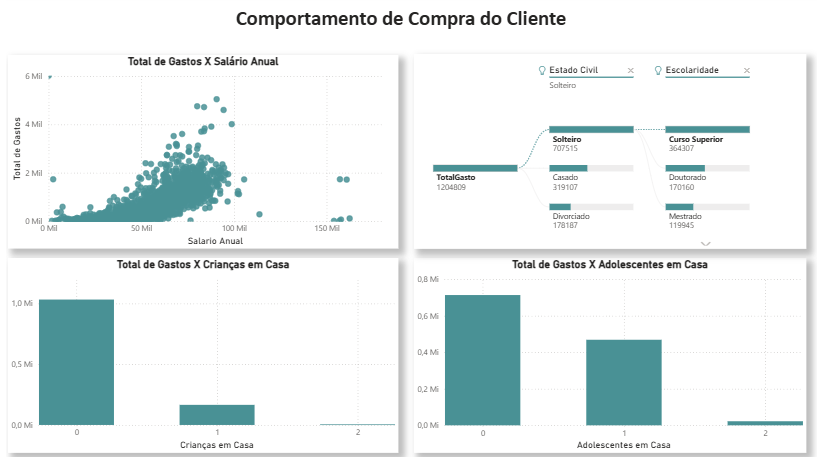

This screenshot's page, from the dashboard's own definition file:
{"tool":"powerbi","page":{"name":"Visão Comportamento","canvas":[1280,720],"ordinal":1},"visuals":[{"type":"scatterChart","title":"Total de Gastos X Salário Anual","fields":{"X":["DadosMarketing.Salario Anual"],"Y":["DadosMarketing.TotalGasto"]},"box":[12,92.6,605,300.2],"z":0},{"type":"columnChart","title":"Total de Gastos X Crianças em Casa","fields":{"Category":["DadosMarketing.Filhos em Casa"],"Y":["DadosMarketing.TotalGasto"]},"box":[12,407.8,605,301.7],"z":1},{"type":"clusteredColumnChart","title":"Total de Gastos X Adolescentes em Casa","fields":{"Y":["DadosMarketing.TotalGasto"],"Category":["DadosMarketing.Adolescentes em Casa"]},"box":[640.8,407.8,607.7,302.3],"z":2},{"type":"decompositionTreeVisual","fields":{"ExplainBy":["DadosMarketing.Estado Civil","DadosMarketing.Escolaridade"],"Analyze":["DadosMarketing.TotalGasto"]},"box":[640.8,91.3,607.7,302.3],"z":3},{"type":"textbox","box":[83.4,11,1075.3,63],"z":4}]}

Visuals, with their boxes in screenshot pixels (x1, y1, x2, y2), scaled from the page's 1280x720 canvas onto the 817x461 screenshot:
"Total de Gastos X Salário Anual" scatterChart: select_region(8, 59, 394, 252)
"Total de Gastos X Crianças em Casa" columnChart: select_region(8, 261, 394, 454)
"Total de Gastos X Adolescentes em Casa" clusteredColumnChart: select_region(409, 261, 797, 455)
decompositionTreeVisual - DadosMarketing.Estado Civil x DadosMarketing.Escolaridade: select_region(409, 58, 797, 252)
textbox: select_region(53, 7, 740, 47)
